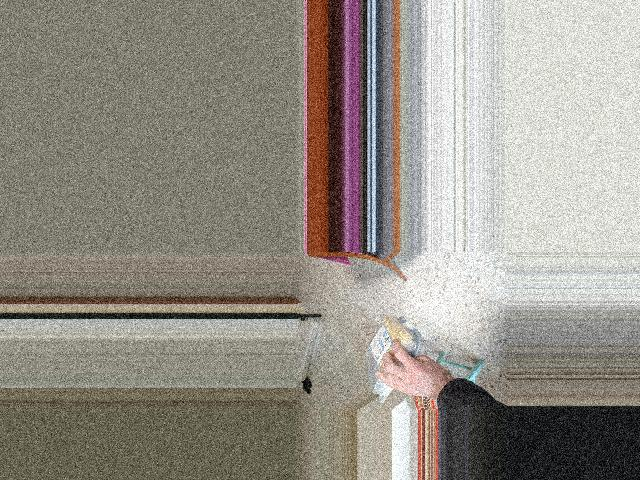cheese: (369, 308, 409, 397)
